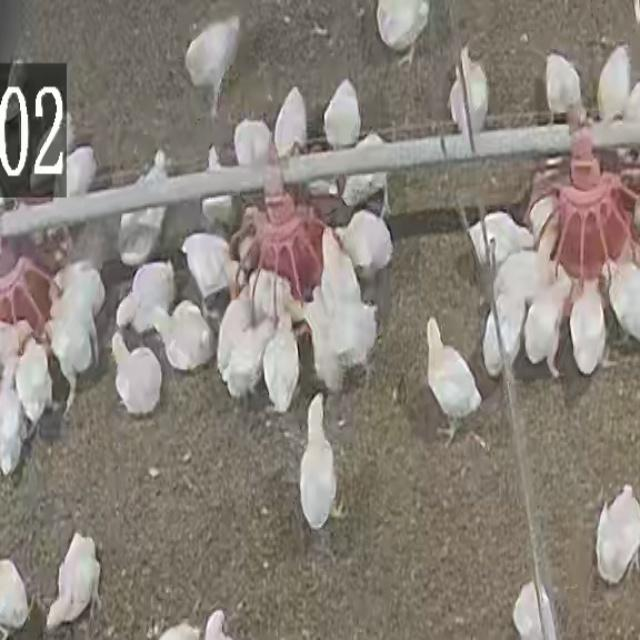chicken: (424, 318, 483, 446), (307, 298, 388, 390), (312, 227, 369, 335), (116, 156, 170, 267), (301, 393, 342, 528), (183, 15, 240, 110), (46, 533, 100, 630), (492, 242, 558, 318), (114, 260, 175, 342), (48, 310, 96, 414), (301, 288, 345, 401), (522, 274, 568, 376), (594, 487, 640, 589), (214, 288, 262, 384), (448, 46, 490, 146), (111, 338, 163, 418), (566, 279, 607, 380), (180, 232, 233, 308), (261, 312, 300, 413), (51, 257, 107, 327), (466, 211, 530, 270), (29, 111, 78, 188), (162, 302, 215, 372), (241, 265, 297, 331), (321, 76, 362, 166), (154, 194, 211, 258), (335, 214, 394, 273), (346, 134, 390, 212), (14, 339, 52, 425), (199, 151, 239, 232), (0, 367, 28, 477), (607, 258, 640, 351), (544, 50, 584, 123), (482, 305, 519, 383), (513, 580, 561, 640), (64, 218, 110, 280), (596, 45, 632, 123), (376, 1, 428, 51), (278, 91, 305, 182), (233, 117, 274, 172), (0, 558, 30, 632), (65, 135, 99, 199), (234, 223, 261, 290), (0, 317, 29, 377), (528, 194, 558, 246), (448, 78, 464, 136)
